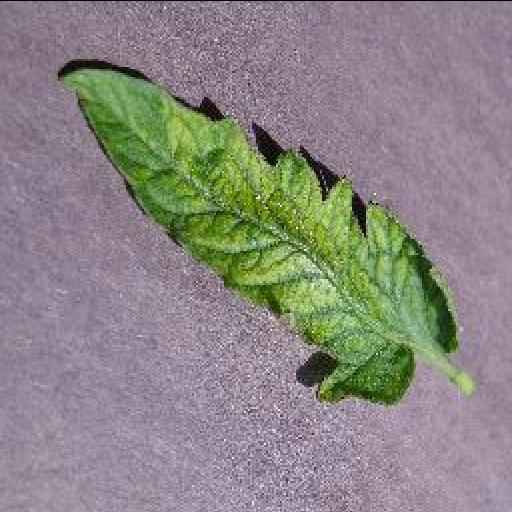Mosaic Virus: (56, 67, 462, 405)
